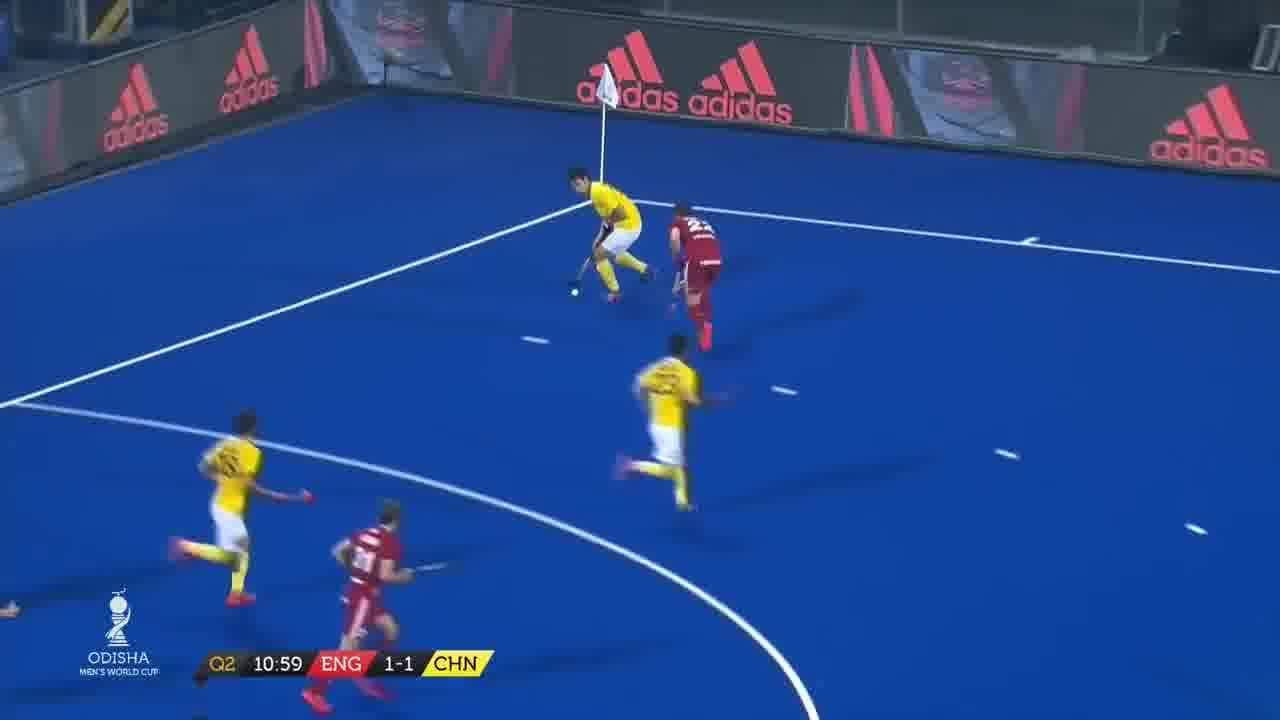ball: (567, 283, 583, 299)
